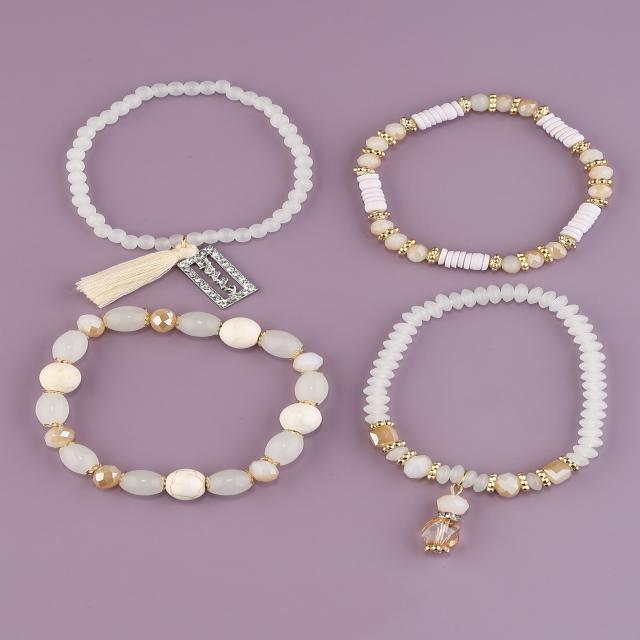bracelet: (0, 47, 395, 320), (10, 250, 357, 556), (341, 264, 640, 578), (336, 44, 640, 290)
